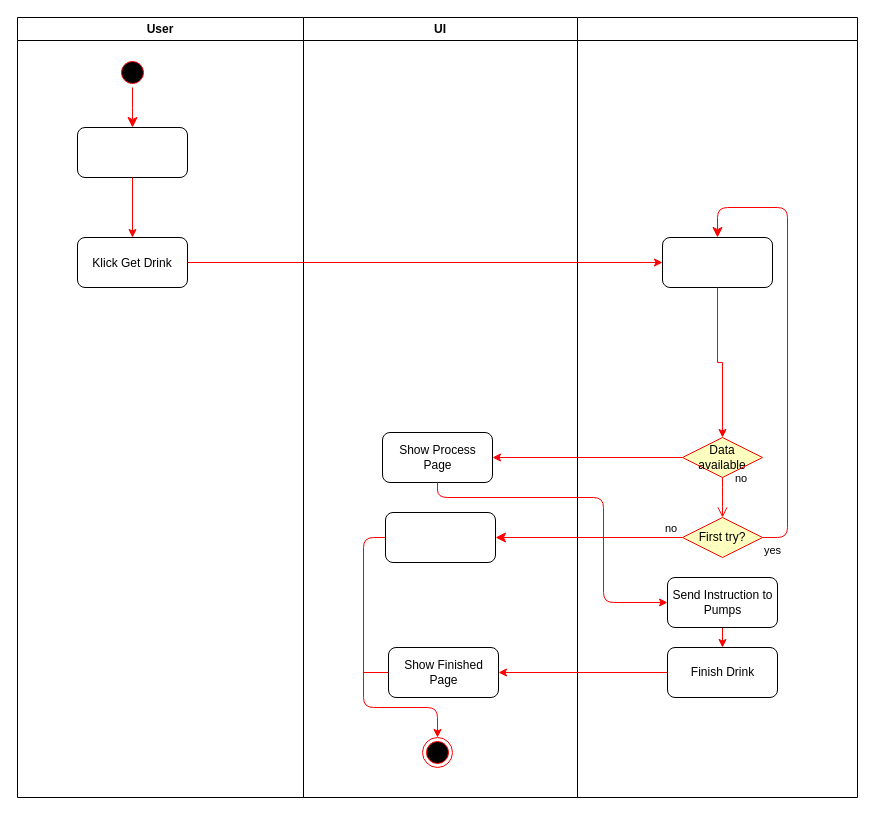
This 875x815 diagram has some shape labels left out. The box of each missing label's shape, as (x1, y1, x2, y2) in pixels:
Approaches Machine: (76, 126, 188, 178)
Backend: (576, 16, 858, 798)
Get Data from Database: (662, 236, 772, 288)
Show Error message: (384, 512, 496, 562)
